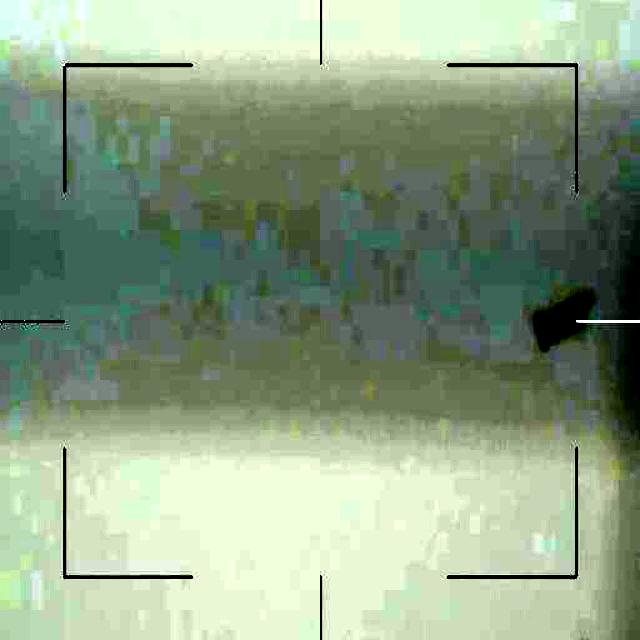bird: (534, 300, 586, 349)
